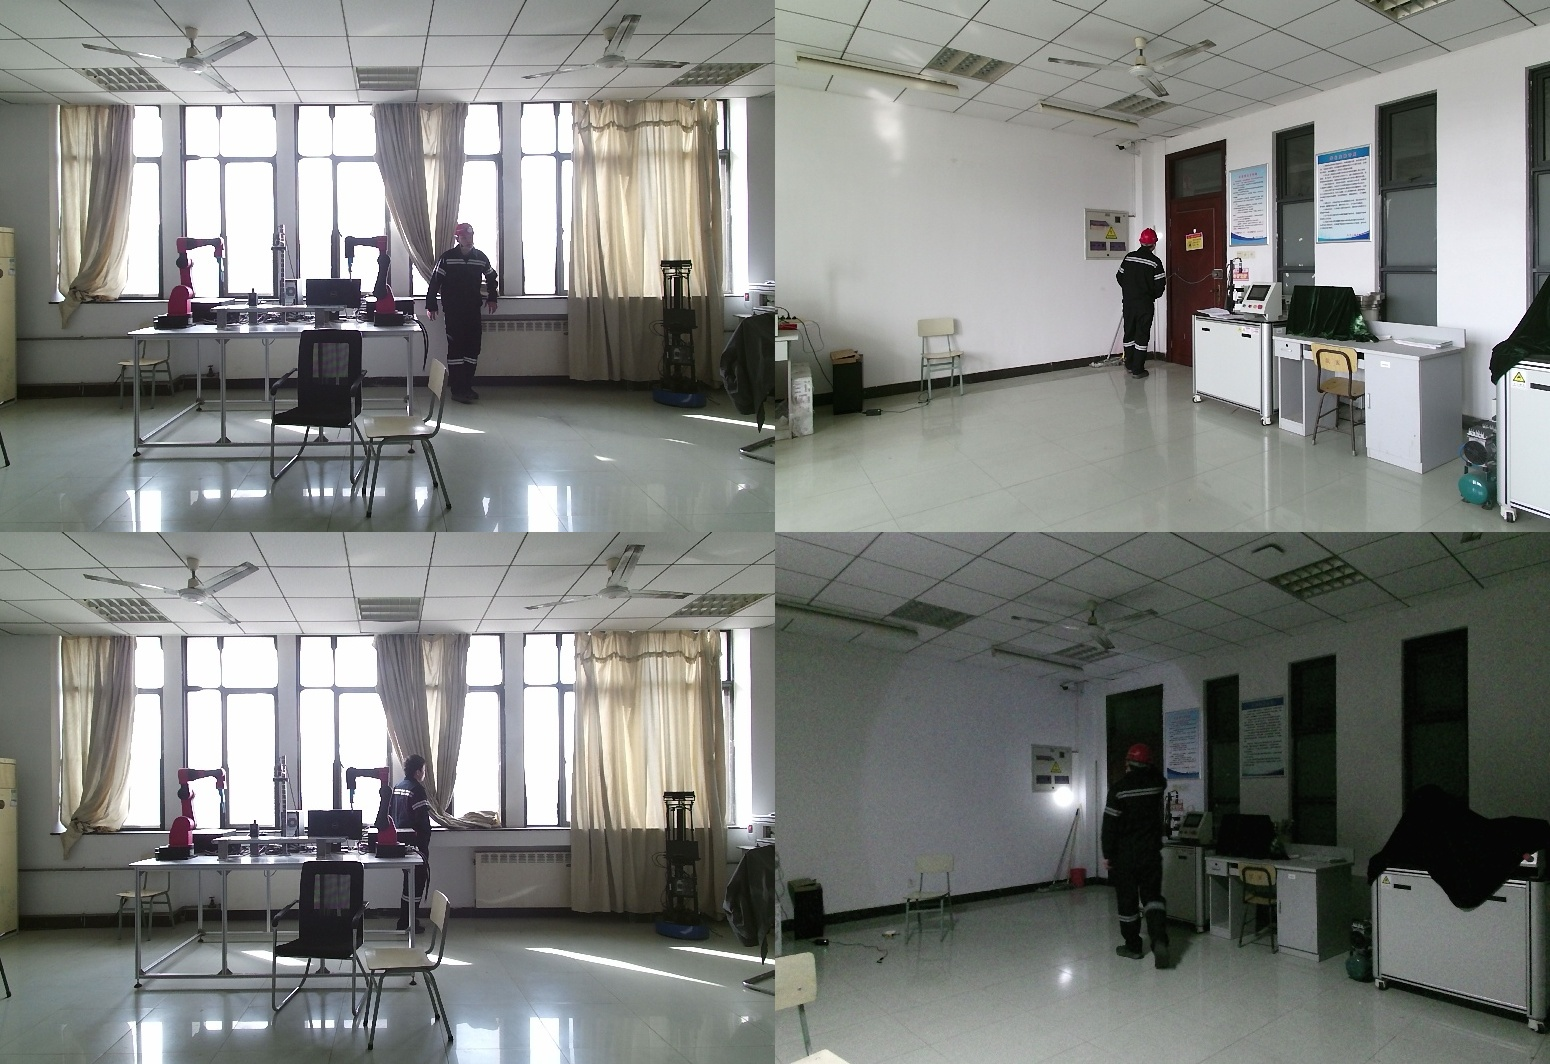person: (1104, 743, 1184, 971), (427, 225, 502, 413), (394, 754, 440, 945), (1114, 229, 1171, 382)
